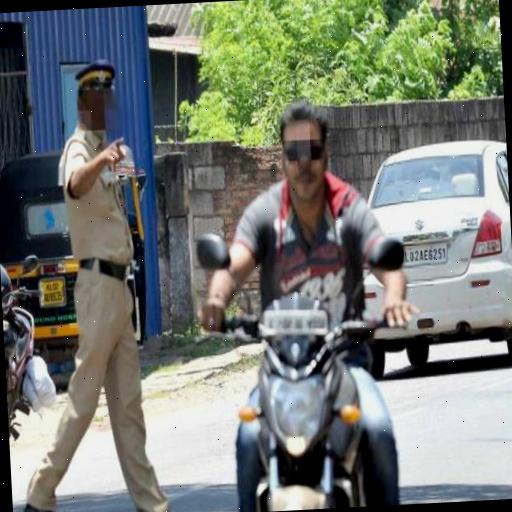no helmet: (191, 76, 402, 501)
